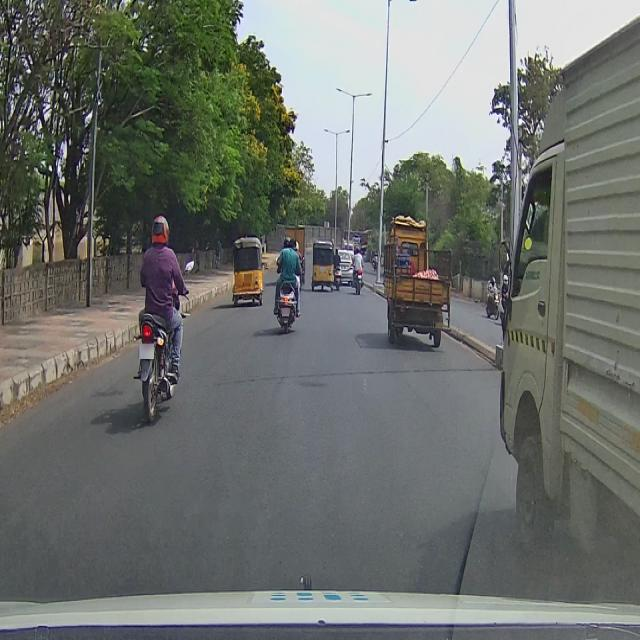auto ahead at: (378, 207, 456, 353), (229, 229, 262, 314)
motorcycle ahead at: (132, 305, 196, 421), (274, 272, 306, 335)
truck ahead at: (498, 54, 640, 570)
